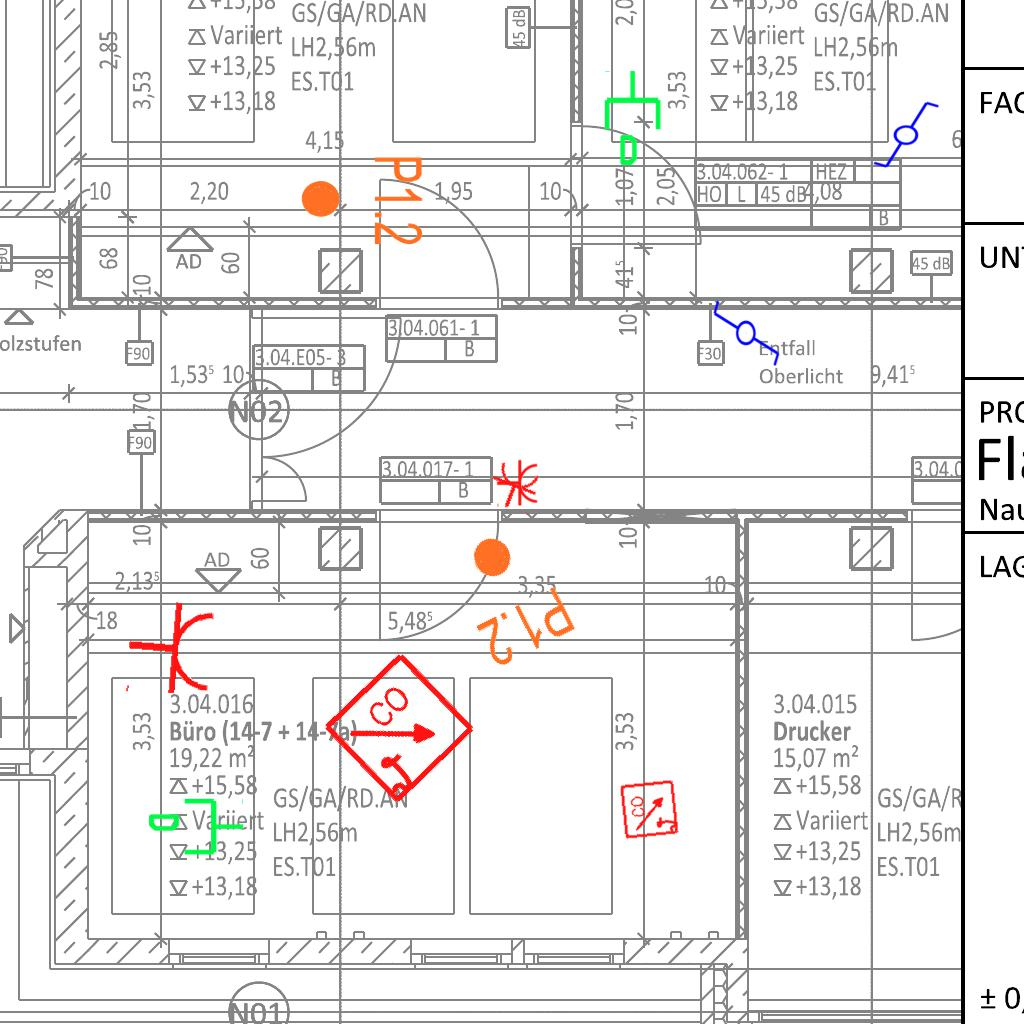Datenanschluss_einfach: (146, 794, 246, 863), (600, 68, 669, 168)
Downlight_LED_Einbauleuchten_Flur: (439, 516, 580, 674), (298, 154, 426, 247)
ROA_Rauchmelder_optisch_mit_Signalgeber_(Sockelsirene): (320, 648, 481, 809), (619, 778, 681, 840)
Schukosteckdose_einfach: (122, 596, 219, 704), (483, 458, 546, 518), (496, 459, 539, 509)
Wechselschalter: (711, 290, 783, 368), (863, 98, 941, 170)
